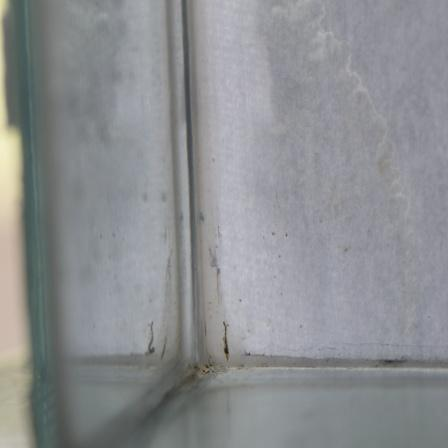Jentik-Nyamuk: (217, 317, 237, 359)
